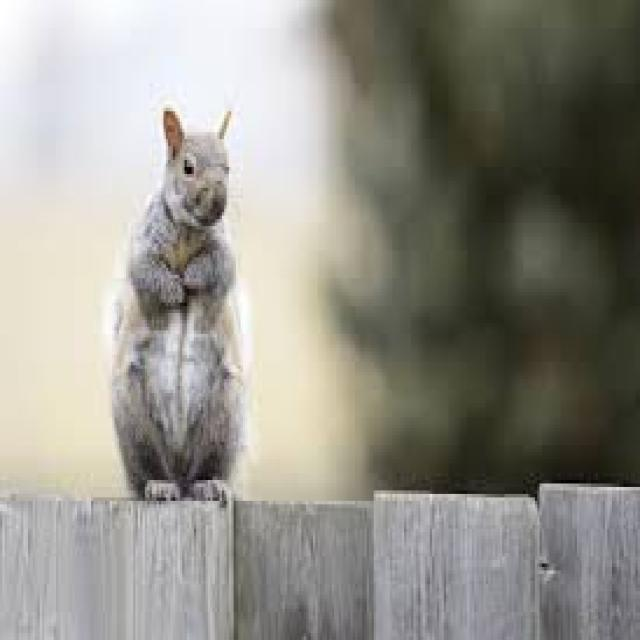Squirrel: (104, 100, 255, 508)
